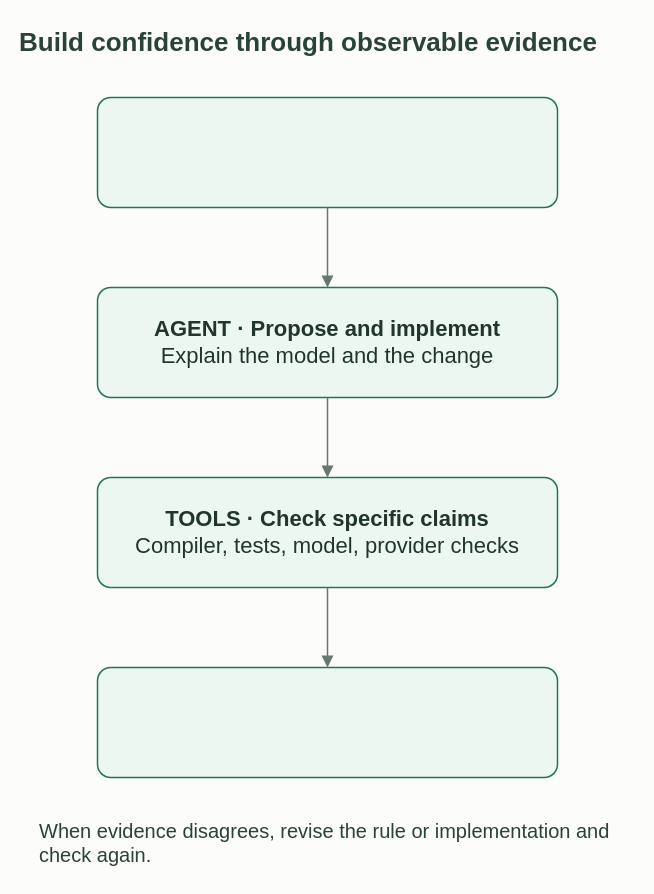
This 654x894 diagram has some shape labels left out. The shapes that lost their labels are listed below. From the top down, each one's box as (x1, y1, x2, y2) in pixels, then its label:
(96, 96, 558, 208): YOU · Define success A rule and boundary examples
(96, 666, 558, 778): YOU · Inspect and decide Compare results with your intent
